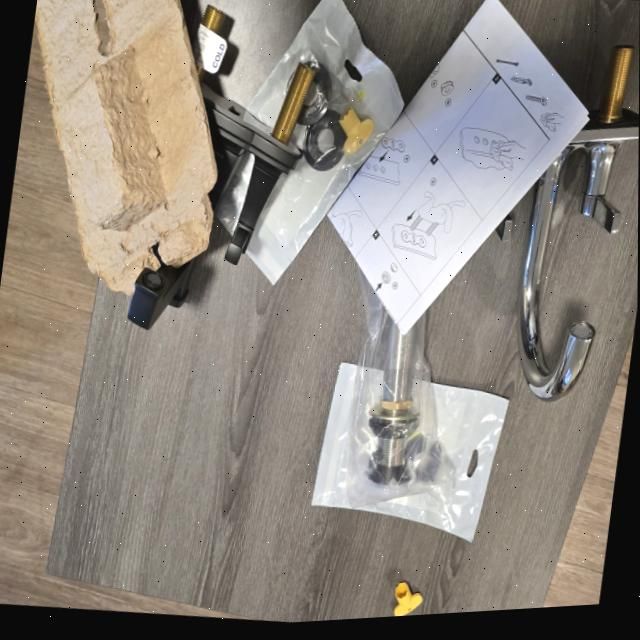10o: (517, 44, 639, 400)
11o: (343, 278, 454, 505)
12o: (245, 0, 404, 282)
13o: (355, 382, 508, 540), (312, 361, 360, 507)
14: (394, 579, 422, 616)
8: (327, 0, 588, 331)
9o: (195, 3, 314, 263), (128, 257, 193, 328)
